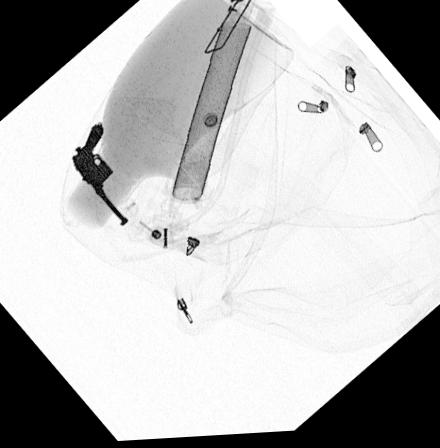Gun: (70, 121, 129, 227)
